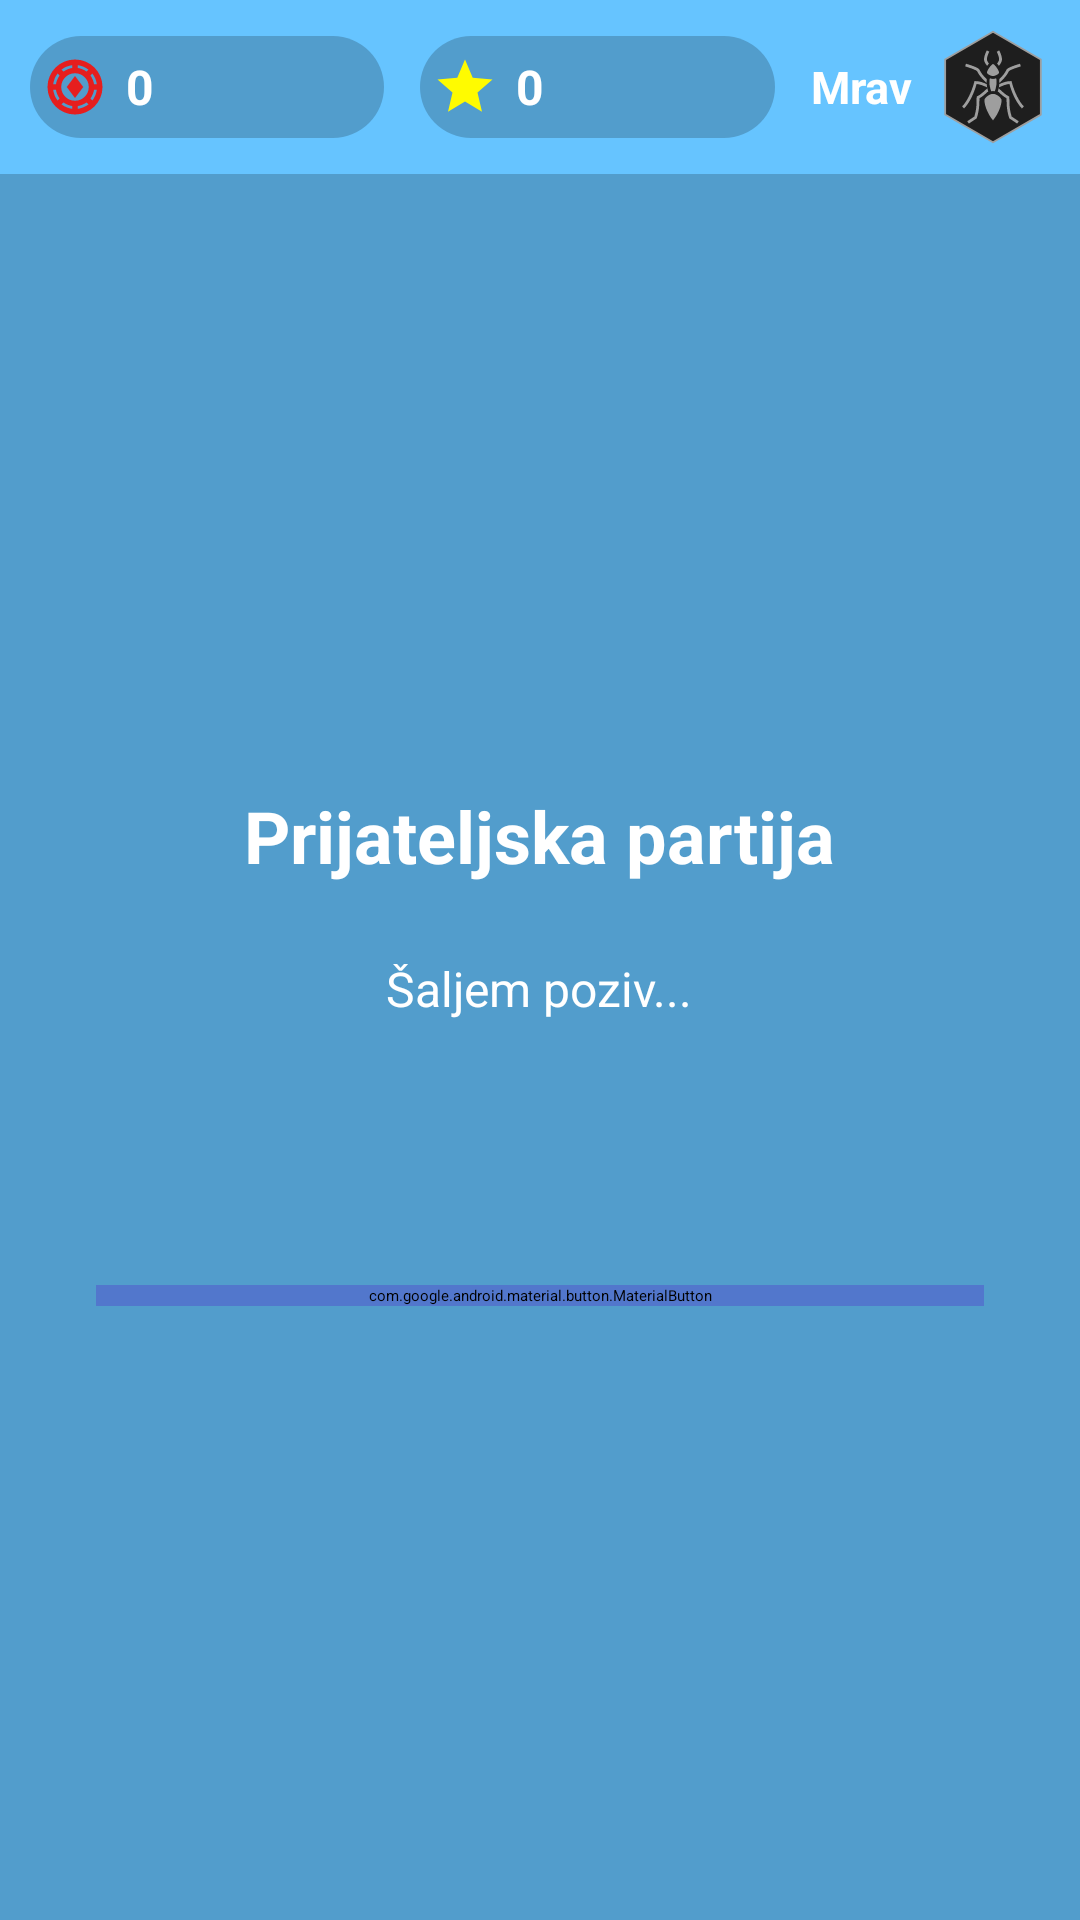

Icon click points for this 1080px x 1920px phone screenshot, format (x,y):
Tokeni: (75,87)
Zvezde: (465,86)
